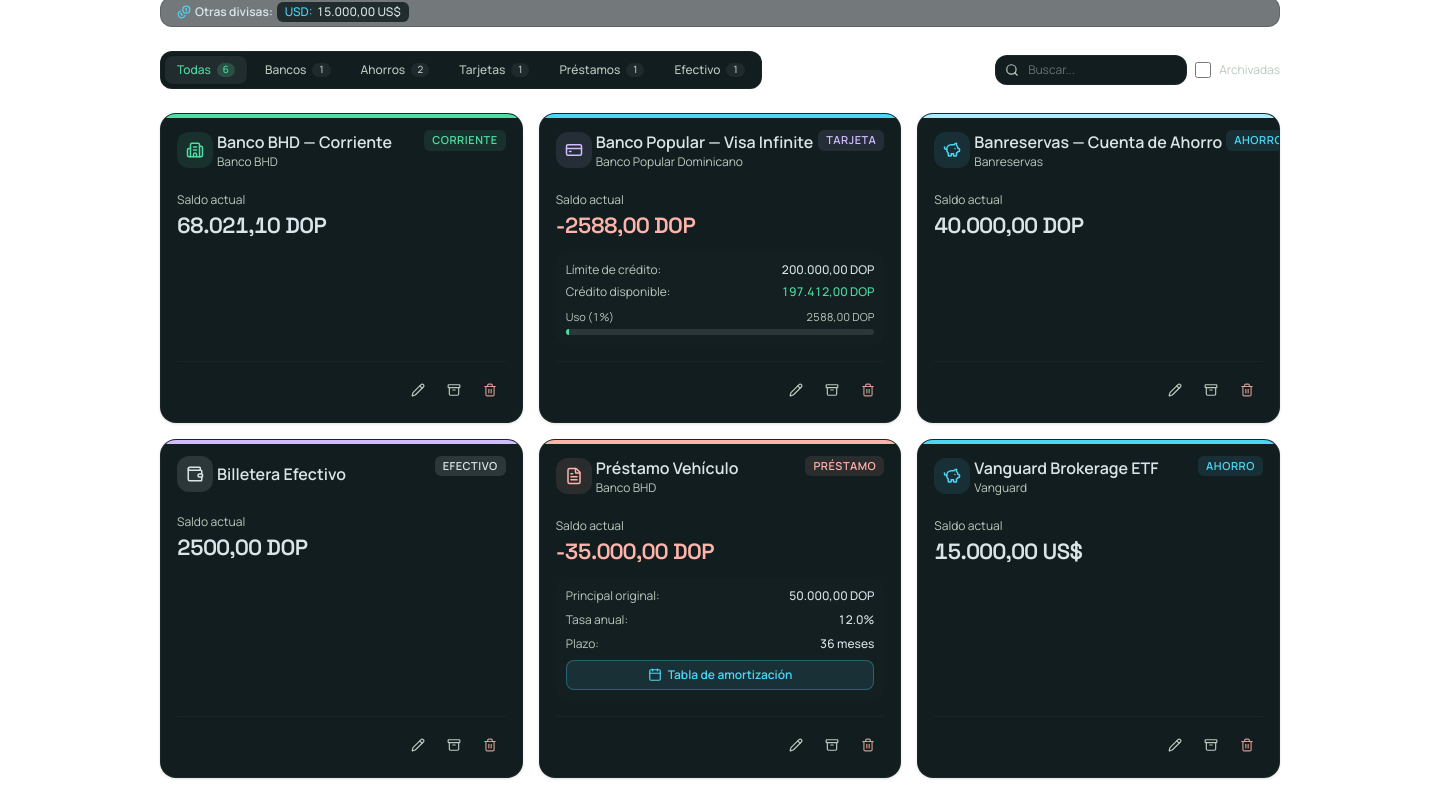
Test case: AccountsPage Integration › opens amortization modal when clicking tabla de amortización on loan account
The width and height of the screenshot is (1440, 810).
(page scrolled)
Click the button "Tabla de amortización" at (720, 675), box [566, 660, 874, 690]
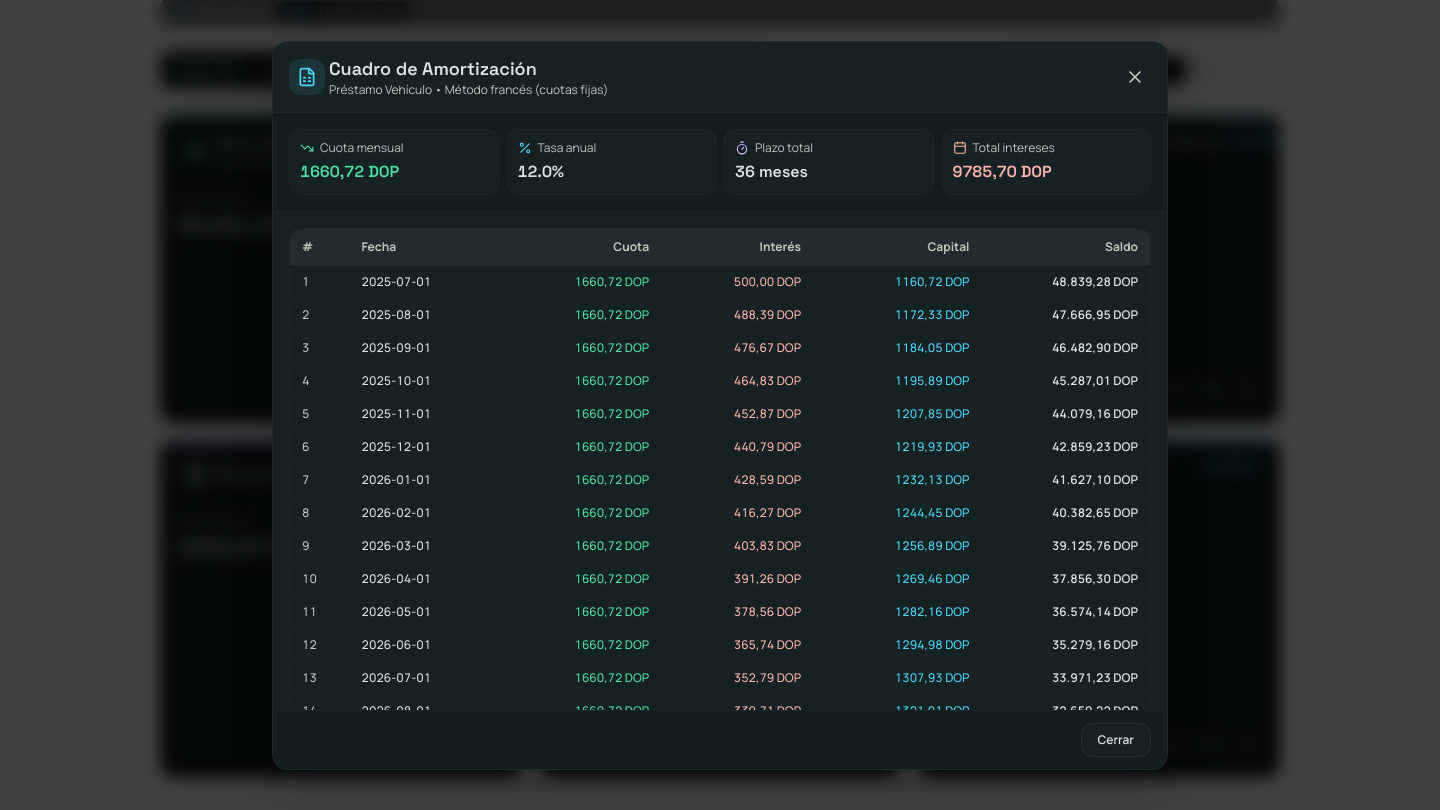
Expected: the heading "Cuadro de Amortización" is shown, [329, 56, 537, 80]
